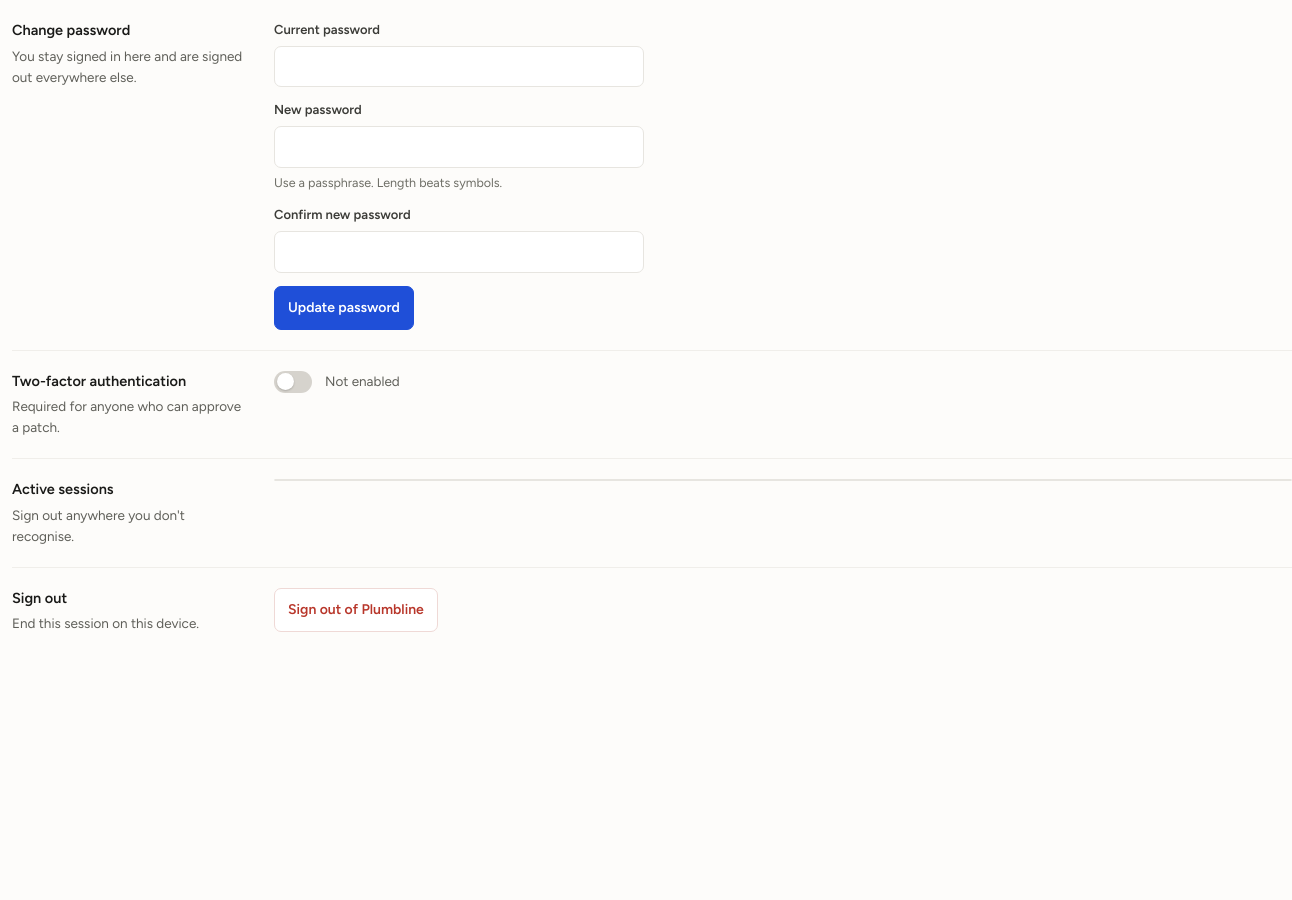
a demo session changing its password is told nothing was saved, not given the real success toast
Type "correct horse battery" into the password field labelled "Current password" at coordinates (459, 66), box [274,46,644,87]
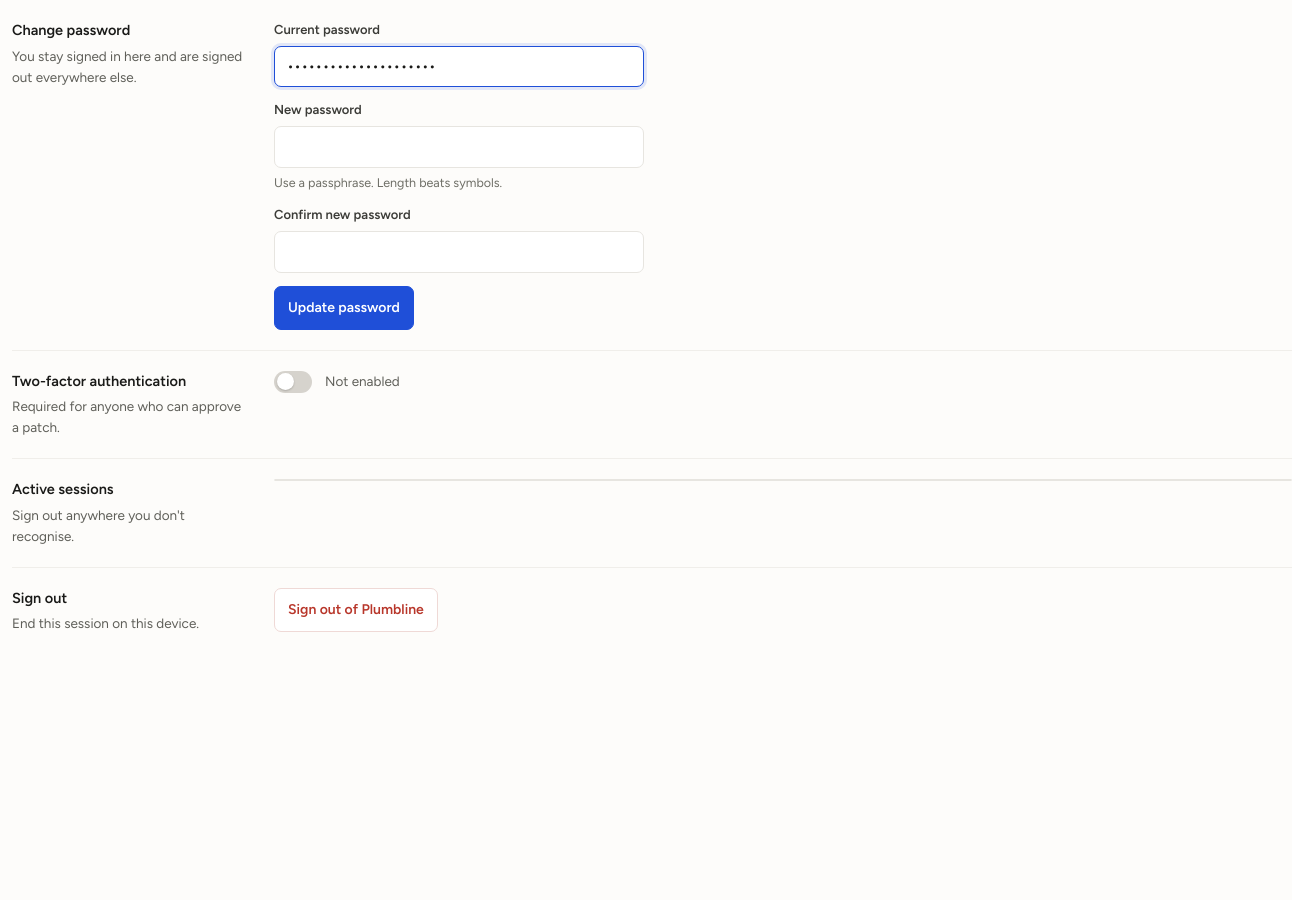
Type "a brand new passphrase" into the password field labelled "New password" at coordinates (459, 147), box [274,126,644,168]
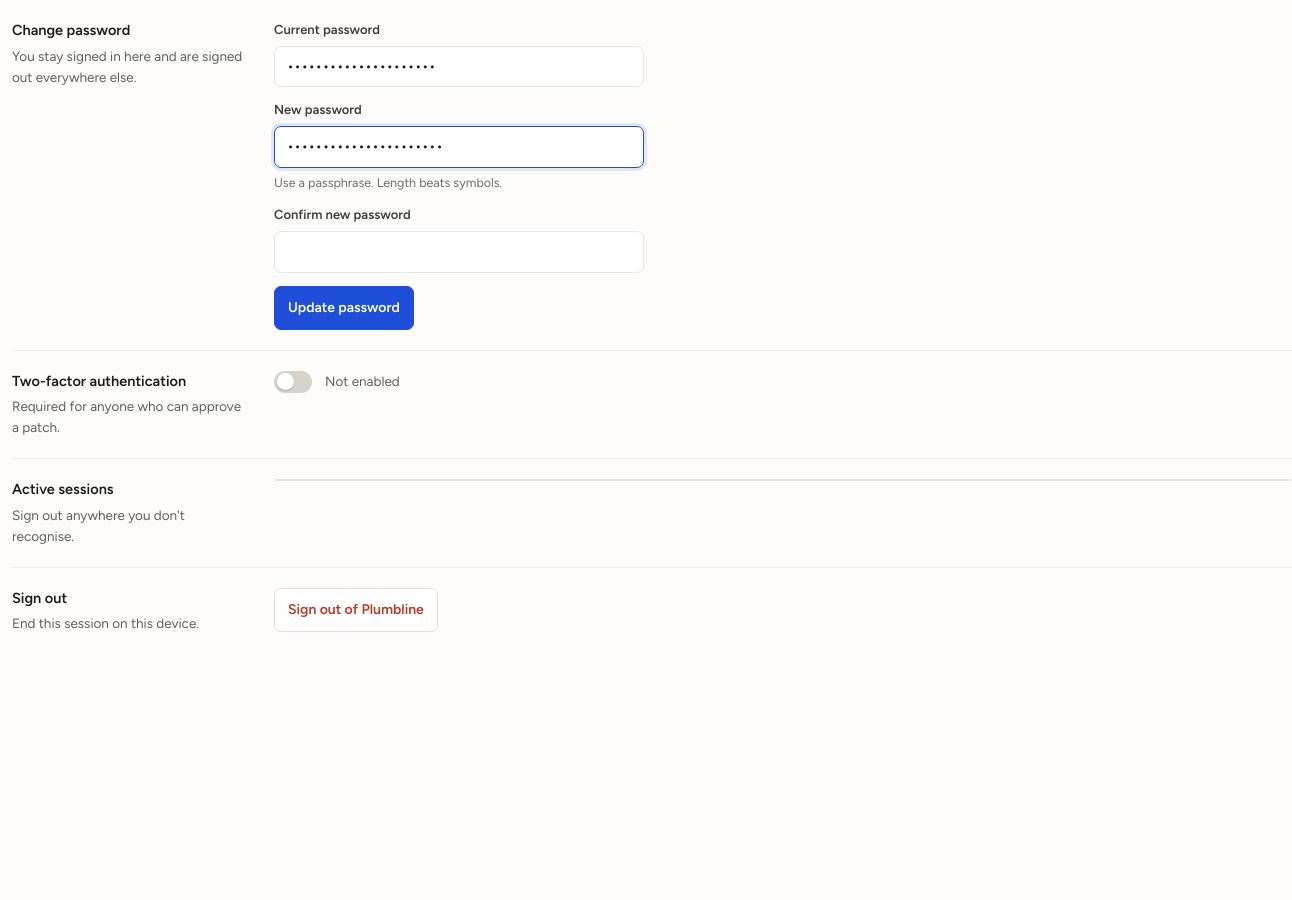
Type "a brand new passphrase" into the password field labelled "Confirm new password" at coordinates (459, 252), box [274,231,644,273]
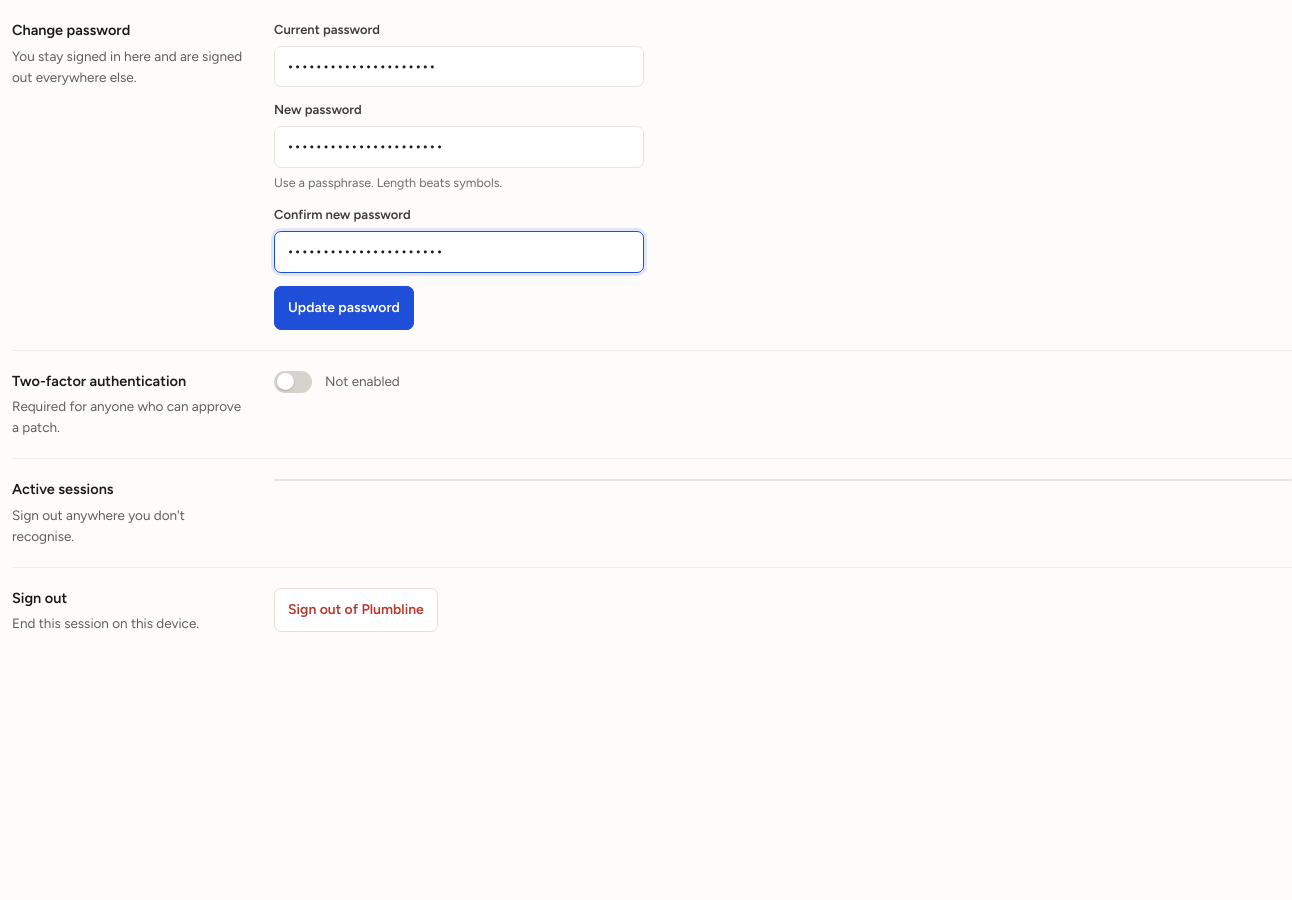
Click the button "Update password" at coordinates (344, 308), box [274,286,414,330]
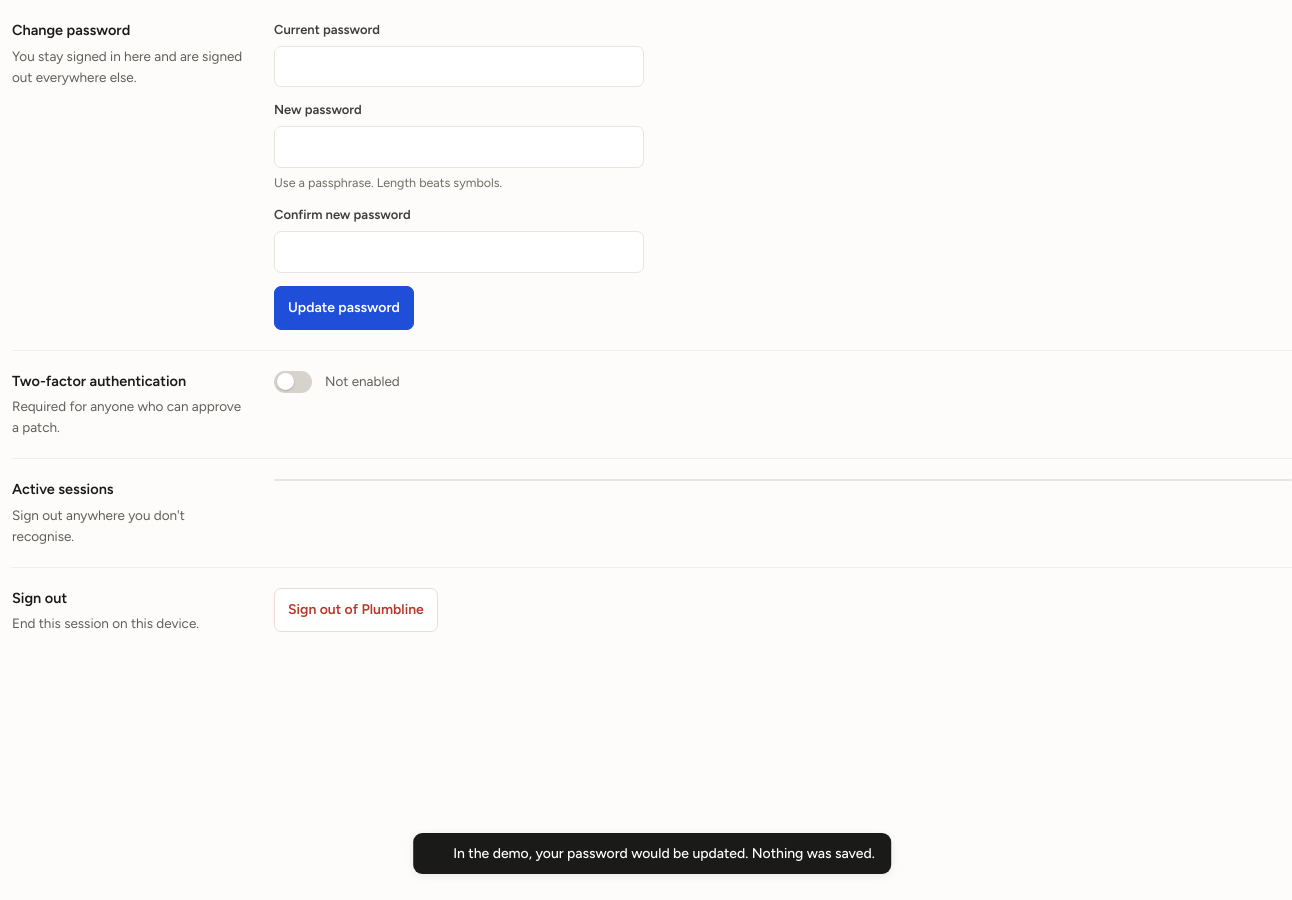
Expected: the text "In the demo, your password would be updated. Nothing was saved." is shown, [413,833,891,874]
